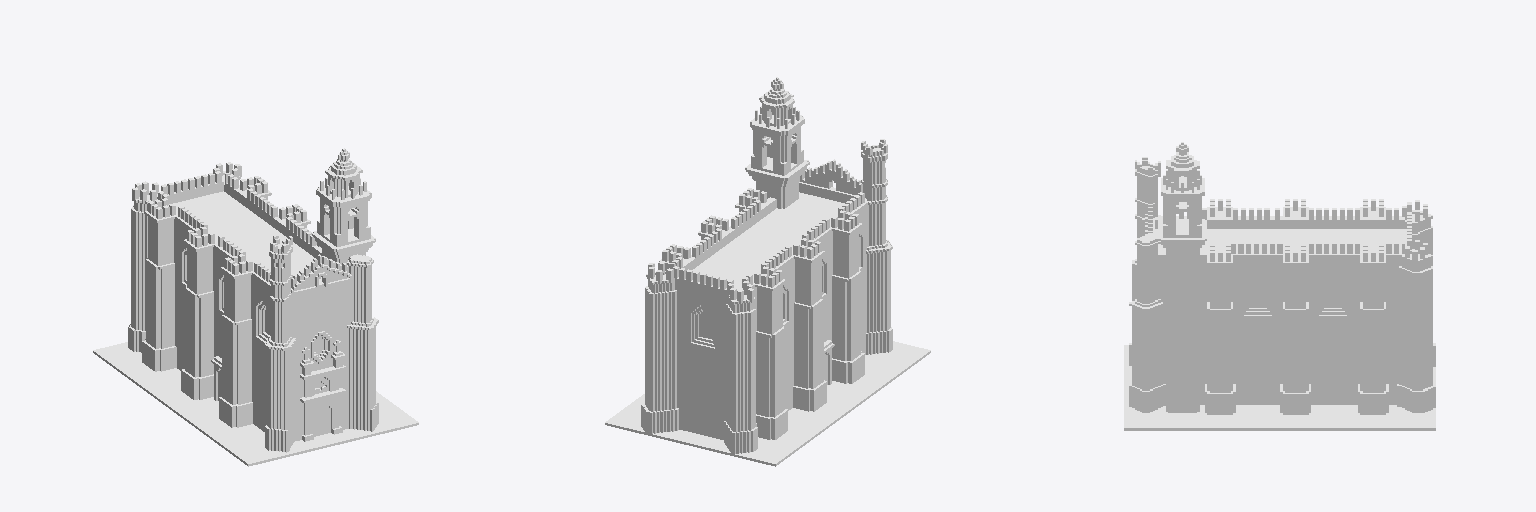
The model's file is exconvento_v01.obj.
3 views of the same model, side by side, from view 1: azimuth 30°, elevation 25°; view 2: azimuth 150°, elevation 25°; view 3: azimuth 270°, elevation 25° (orthographic).
Parts seen in each view (by area): view 1: object 1; view 2: object 1; view 3: object 1.
Part boxes in pixels (x1,y1,x2,y2): object 1: (93,148,418,466); object 1: (605,77,930,466); object 1: (1124,142,1435,430).
Size of the model in its own units: 7.6 by 11.3 by 12.